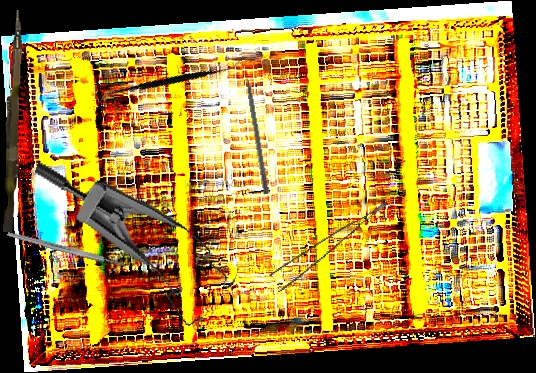Pusher: (2, 9, 23, 233), (242, 60, 271, 195)
Scalpel Handle: (6, 230, 125, 268)
Spatula Surgical: (97, 10, 242, 154)
Speculum: (4, 160, 252, 335)
Tissue Forceps: (265, 201, 400, 293)
